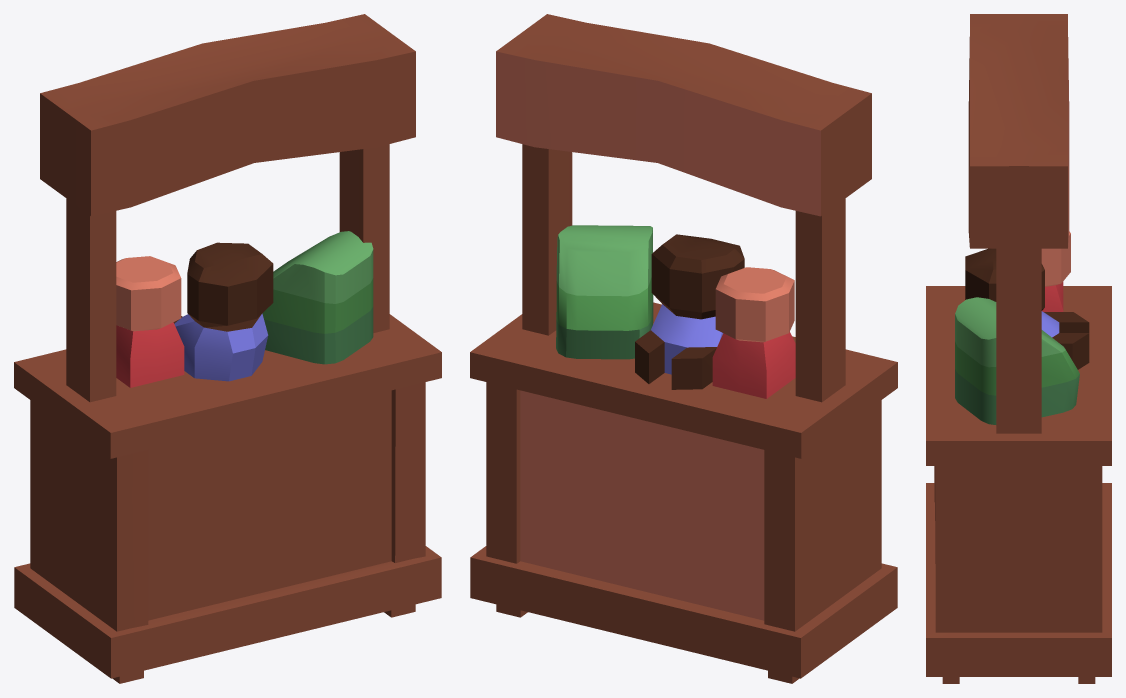
The model's file is VR.fbx_stand_4.fbx.
3 views of the same model, side by side, from view 1: azimuth 30°, elevation 25°; view 2: azimuth 150°, elevation 25°; view 3: azimuth 270°, elevation 25° (orthographic). The views are drawn at different scales.
Visible parts, largest first — view 1: stand 4; view 2: stand 4; view 3: stand 4.
Part boxes in pixels (x1,y1,x2,y2): stand 4: [14, 14, 441, 683]; stand 4: [470, 14, 897, 683]; stand 4: [926, 14, 1111, 683].
Bounding box in the file's own units: 60.96 × 97.91 × 30.87.
